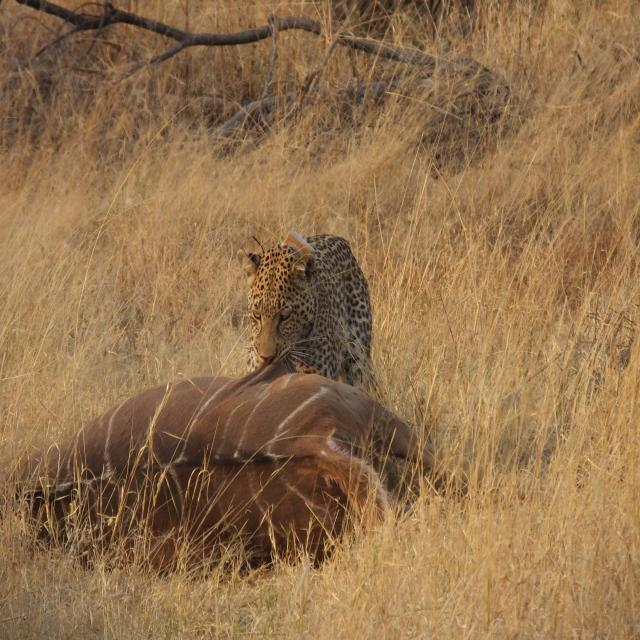Leopard: (244, 230, 375, 404)
